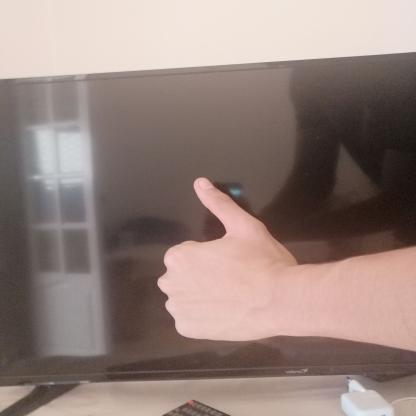ALIF: (152, 171, 307, 353)
